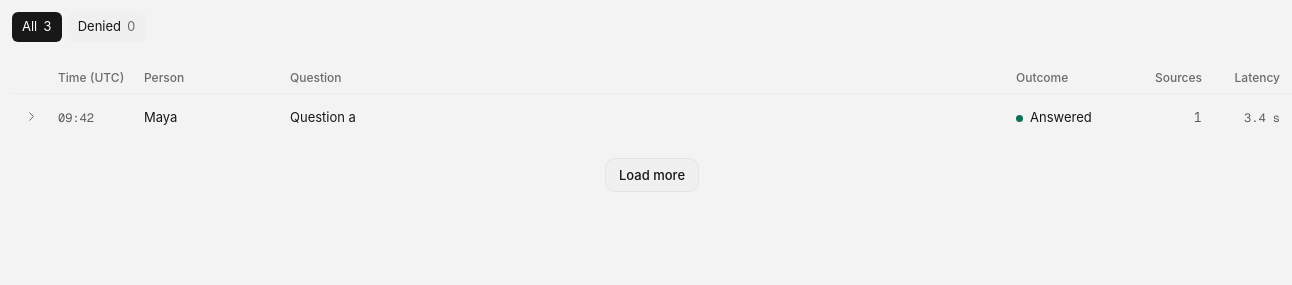
ActivityView › shows a visible failure line when the trace cannot load
Click the button named "Question a" at (32, 116), box 24,109 -> 39,124
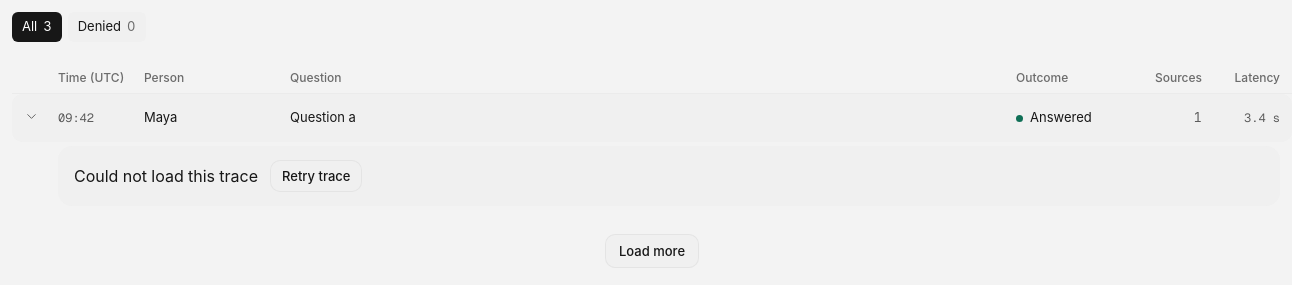
expect the text "Could not load this trace" is shown: met, box 74,166 -> 258,186
